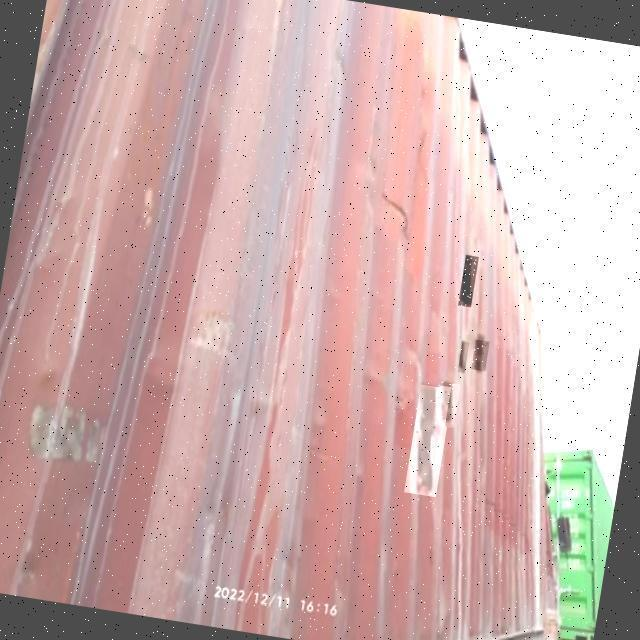rust: (415, 387, 447, 496), (440, 385, 457, 428), (464, 257, 476, 307), (476, 341, 486, 372), (461, 343, 467, 370)
